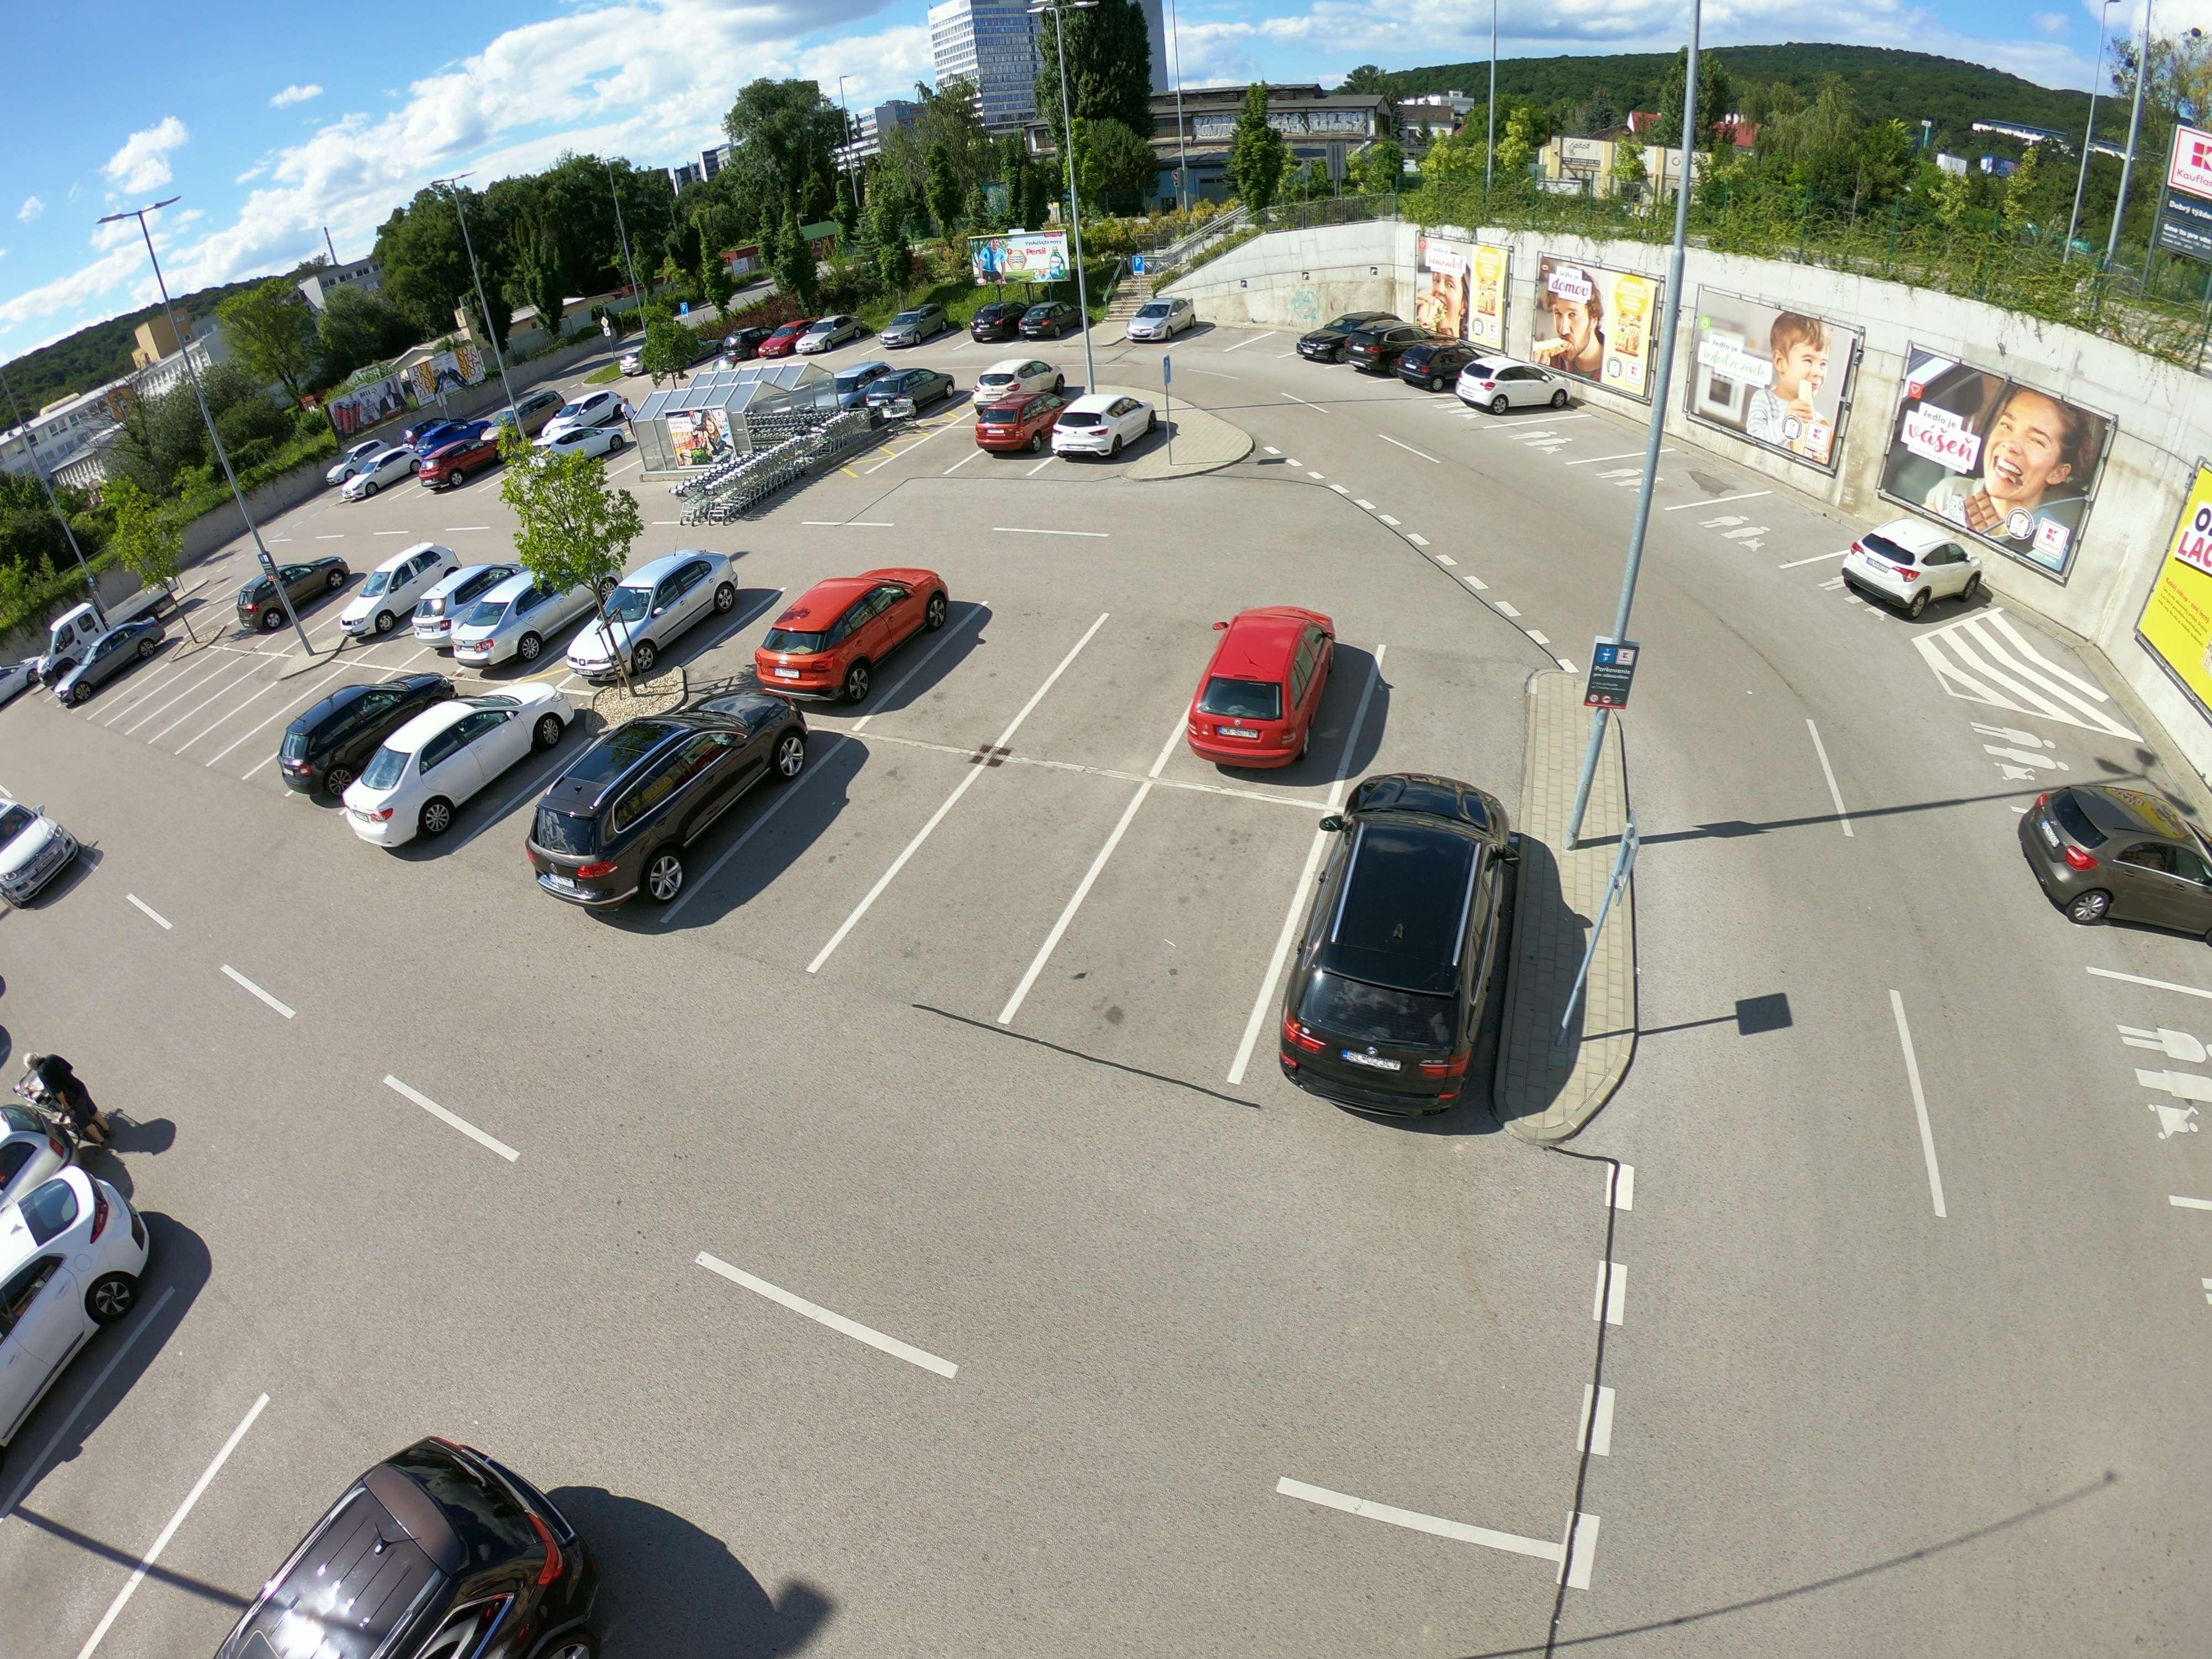empty: (190, 1434, 639, 1659), (1256, 762, 1531, 1117), (0, 1089, 148, 1520), (526, 702, 794, 915), (2020, 781, 2212, 955), (354, 688, 561, 845), (1172, 598, 1352, 774), (747, 563, 949, 702), (575, 547, 742, 681), (277, 669, 430, 796), (1836, 516, 1982, 619), (462, 559, 594, 669), (343, 544, 462, 641), (702, 443, 827, 523), (7, 786, 82, 918), (1451, 343, 1569, 427), (235, 552, 350, 633), (963, 366, 1059, 457), (1050, 385, 1157, 465), (1303, 307, 1406, 376), (871, 364, 967, 430), (975, 349, 1064, 415), (1383, 329, 1467, 397), (1129, 296, 1200, 349)
occupied: (61, 1366, 263, 1549), (1096, 859, 1266, 986), (920, 824, 1059, 922), (759, 807, 880, 892), (1062, 669, 1165, 730), (930, 652, 1028, 708), (1632, 444, 1705, 500), (894, 432, 974, 481), (1554, 411, 1629, 462), (1728, 500, 1806, 547), (207, 708, 254, 746), (251, 716, 293, 753), (183, 674, 225, 706), (138, 692, 174, 713)
